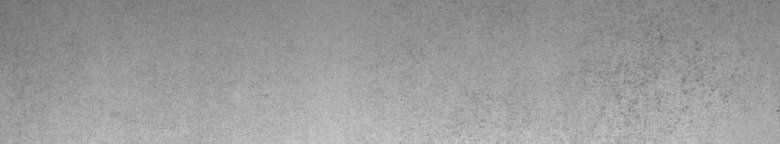ib: (616, 35, 715, 116)
